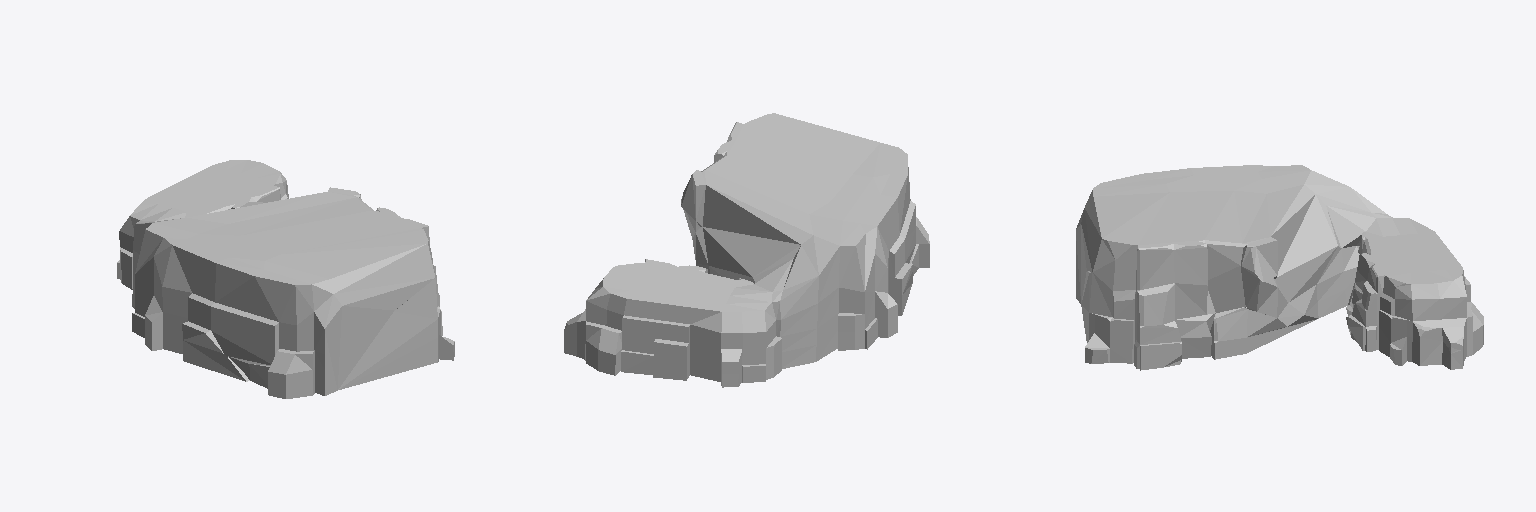
Rendered from platforma_4.2.obj.
3 views of the same model, side by side, from view 1: azimuth 30°, elevation 25°; view 2: azimuth 150°, elevation 25°; view 3: azimuth 270°, elevation 25° (orthographic).
Visible parts, largest first — view 1: Cube.022; view 2: Cube.022; view 3: Cube.022.
Boxes of the visible parts, box(x1,y1,x2,y2) form: Cube.022: box(117, 160, 454, 398); Cube.022: box(564, 113, 929, 387); Cube.022: box(1076, 165, 1483, 370).
Size of the model in its own units: 46.83 by 22.02 by 70.94.